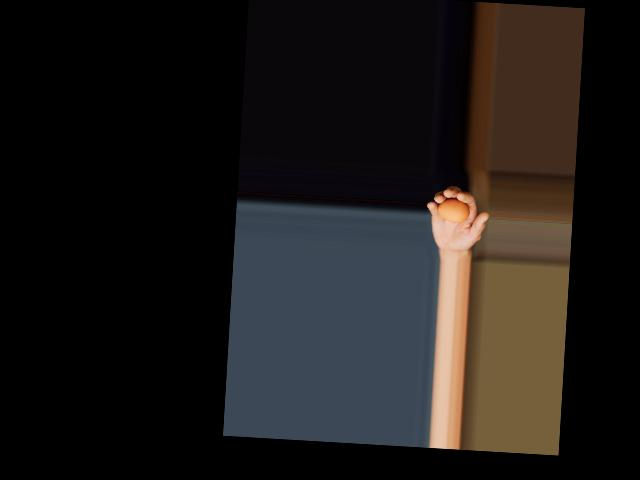egg: (436, 198, 469, 223)
